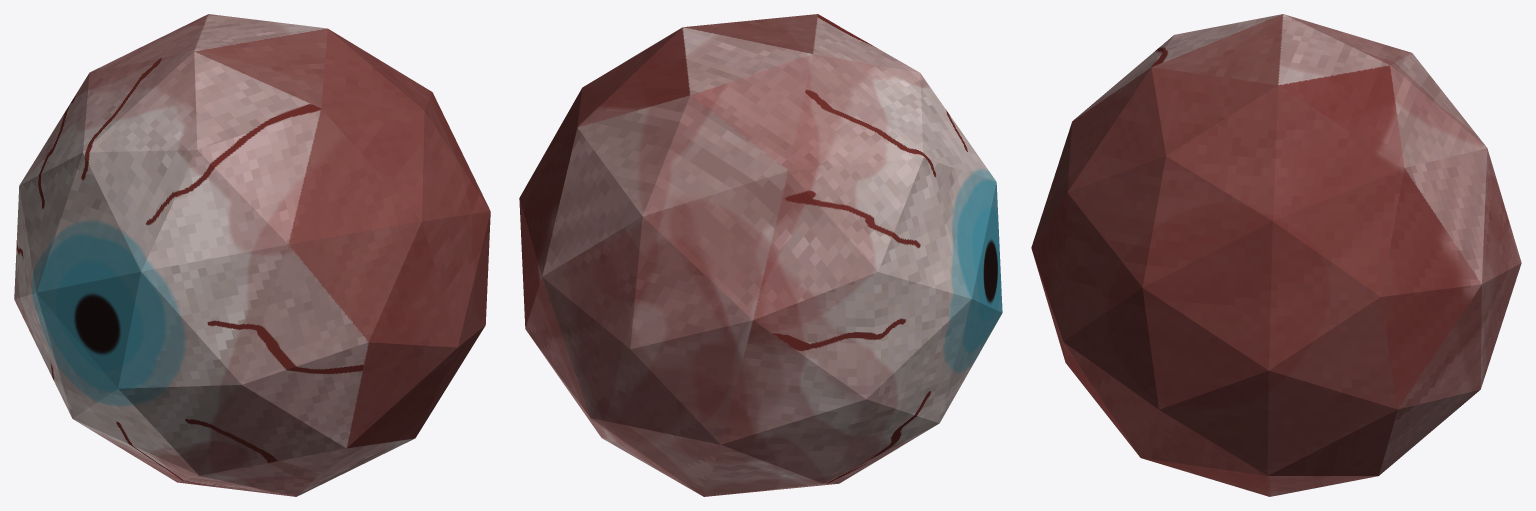
Rendered from Occhio.fbx.
3 renders of one model, left to right at view 1: azimuth 30°, elevation 25°; view 2: azimuth 150°, elevation 25°; view 3: azimuth 270°, elevation 25°, orthographic.
Parts seen in each view (by area): view 1: Icosphere.010; view 2: Icosphere.010; view 3: Icosphere.010.
Part boxes in pixels (x1,y1,x2,y2): Icosphere.010: [14, 14, 490, 496]; Icosphere.010: [519, 14, 1002, 496]; Icosphere.010: [1031, 14, 1521, 496].
Size of the model in its own units: 0.0331 by 0.032 by 0.0332.
1 material, 1 textured.
